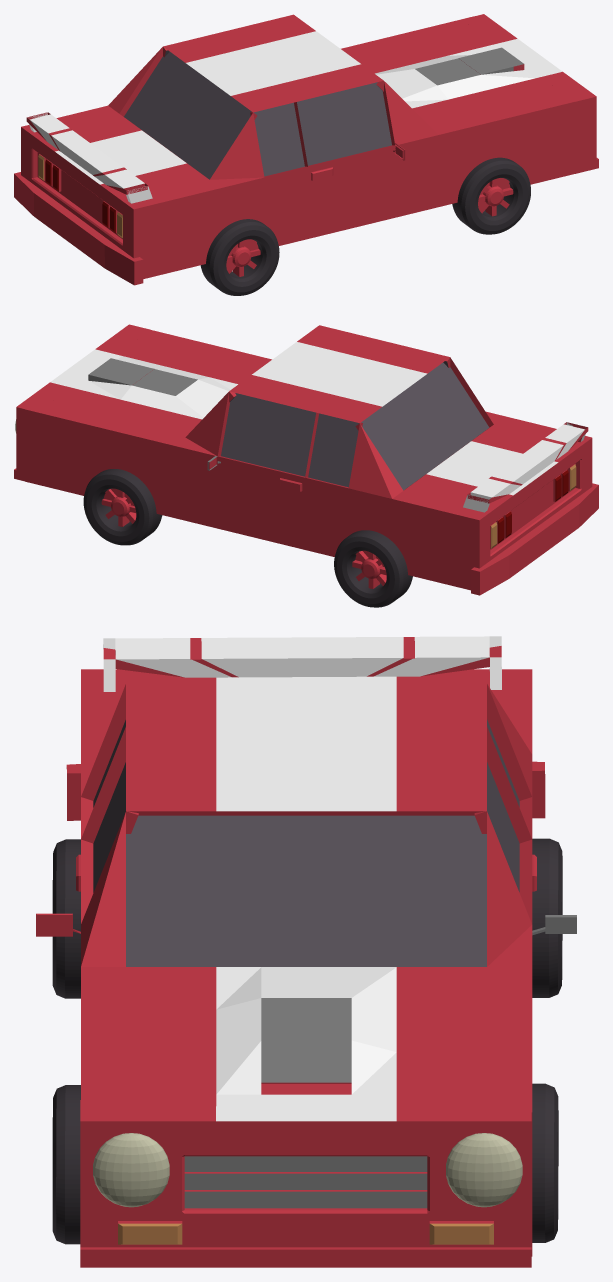
Rendered from carSingle.fbx.
3 views of the same model, one above another, from view 1: azimuth 30°, elevation 25°; view 2: azimuth 150°, elevation 25°; view 3: azimuth 270°, elevation 25° (orthographic). The views are drawn at different scales.
Visible parts, largest first — view 1: Car2_1; view 2: Car2_1; view 3: Car2_1.
Part boxes in pixels (left/top/right/bottom): Car2_1: left=14, top=14, right=598, bottom=295; Car2_1: left=14, top=324, right=598, bottom=607; Car2_1: left=36, top=636, right=576, bottom=1267.
Bounding box in the file's own units: 17.58 × 5.8 × 8.6.
